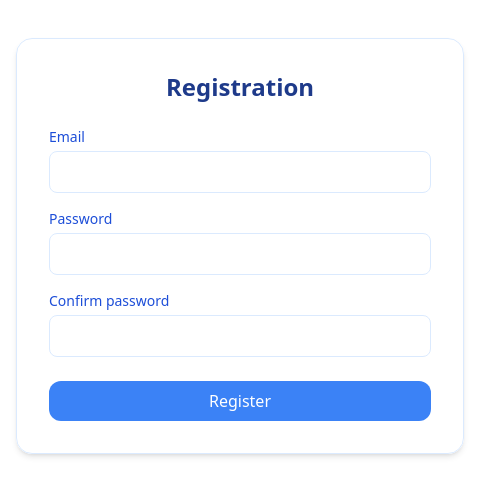
show submit form without email error
The width and height of the screenshot is (481, 497).
Click the button "Register" at (240,401), box [49, 381, 431, 421]
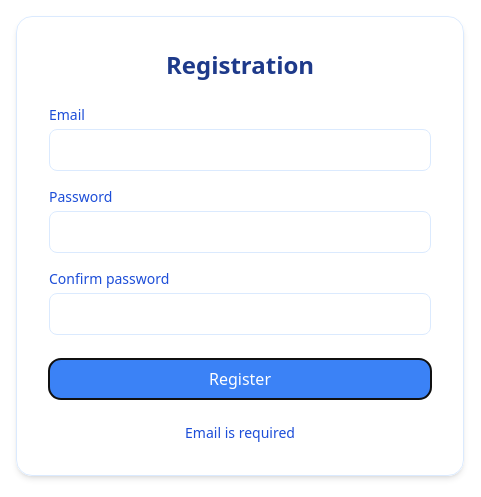
Check: the text "Email is required" is shown, box [185, 423, 295, 442]
